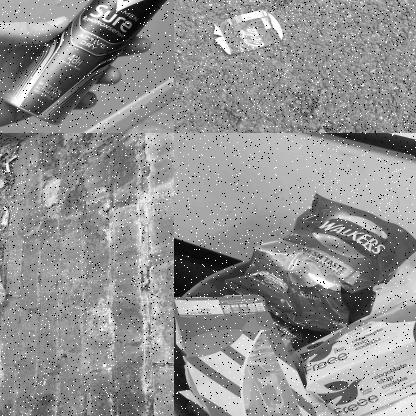cardboard: (174, 290, 341, 415), (301, 292, 415, 411)
metal: (4, 0, 173, 126), (204, 12, 288, 54)
plastic: (224, 194, 414, 306), (0, 254, 16, 309)
